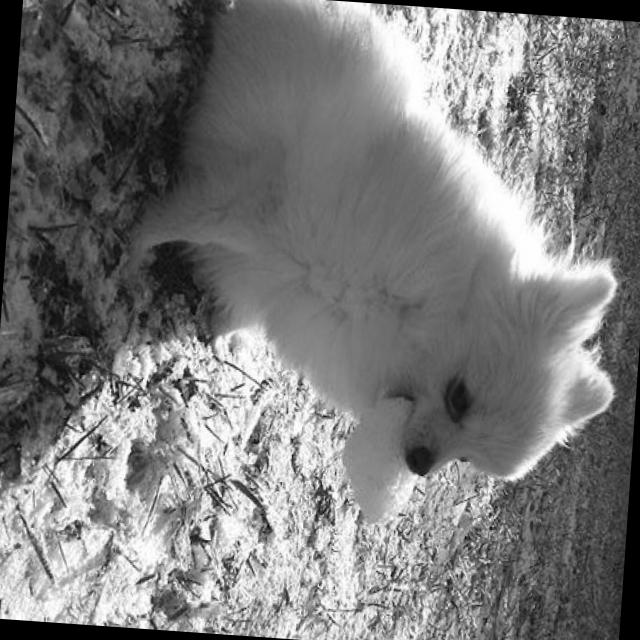sitting: (109, 0, 640, 509)
